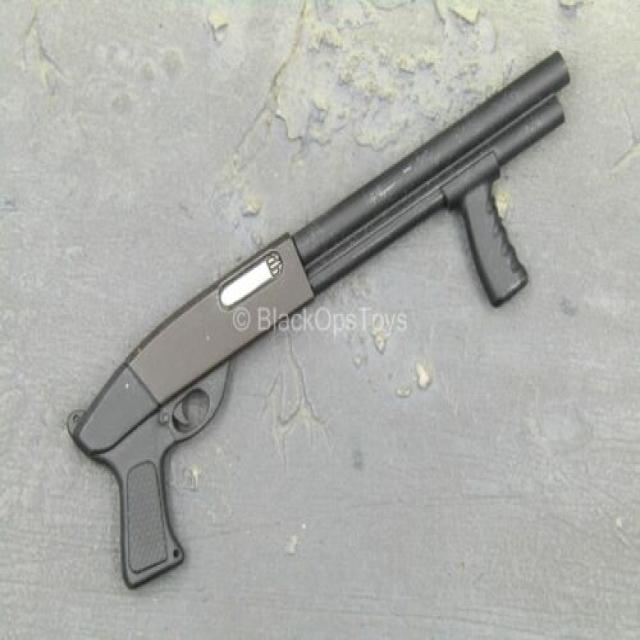ShotGun: (67, 53, 571, 591)
